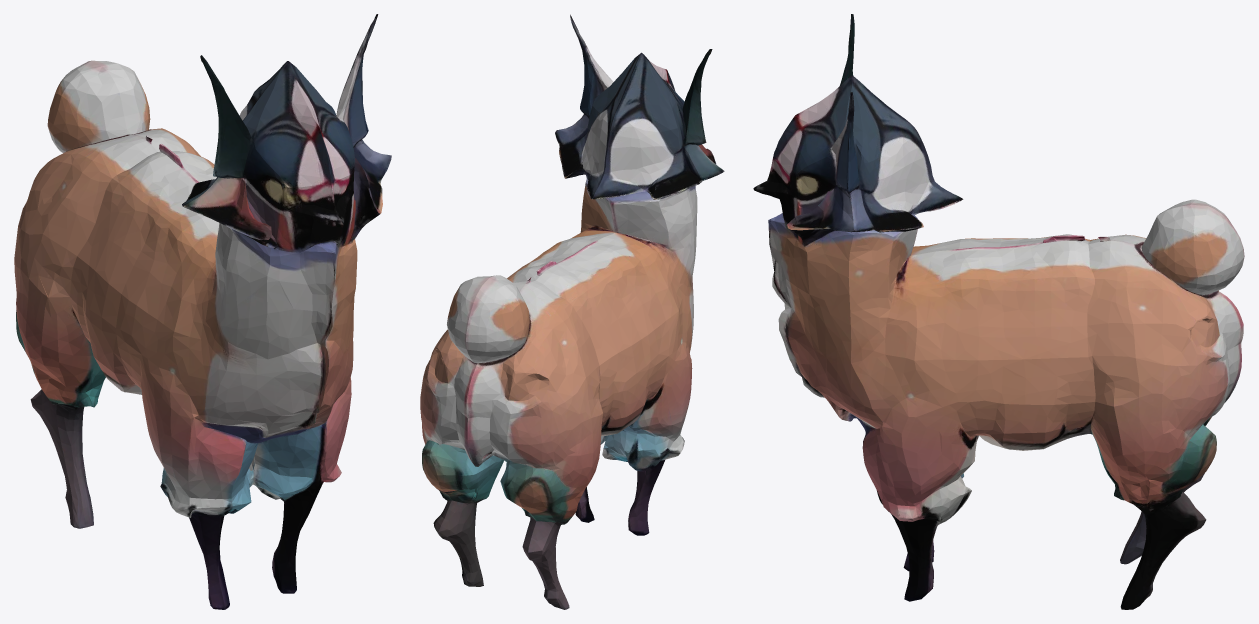
File: armored_alpaca.glb
3 views of the same model, side by side, from view 1: azimuth 30°, elevation 25°; view 2: azimuth 150°, elevation 25°; view 3: azimuth 270°, elevation 25° (orthographic). The views are drawn at different scales.
Visible parts, largest first — view 1: geometry_0; view 2: geometry_0; view 3: geometry_0.
Part boxes in pixels (bbox=[...]): geometry_0: bbox=[14, 14, 391, 609]; geometry_0: bbox=[420, 14, 724, 609]; geometry_0: bbox=[753, 14, 1244, 609].
Bounding box in the file's own units: 0.5189 × 1.4 × 1.17.
1 material, 1 textured.
